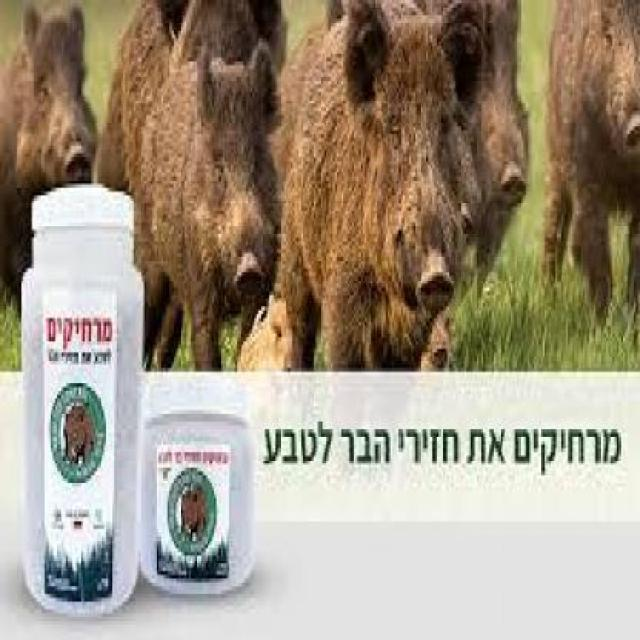wildboar: (233, 0, 485, 377), (85, 0, 297, 342), (113, 32, 285, 373), (348, 0, 534, 302), (0, 0, 115, 352), (540, 0, 640, 338)
